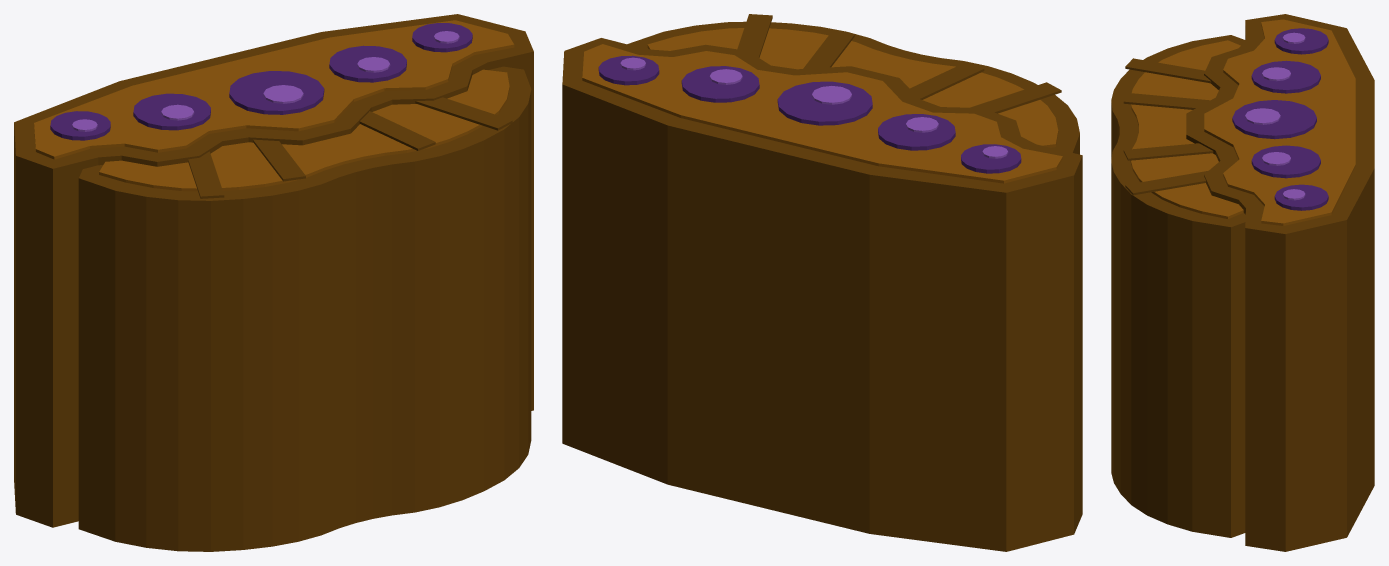
The model's file is bag_carapaca_dourada.fbx.
3 views of the same model, side by side, from view 1: azimuth 30°, elevation 25°; view 2: azimuth 150°, elevation 25°; view 3: azimuth 270°, elevation 25° (orthographic). The views are drawn at different scales.
Parts seen in each view (by area): view 1: bag_carapaca_dourada_mochila; view 2: bag_carapaca_dourada_mochila; view 3: bag_carapaca_dourada_mochila.
Boxes of the visible parts, x1,y1,x2,y2 form: bag_carapaca_dourada_mochila: (14,14,533,551); bag_carapaca_dourada_mochila: (562,14,1082,551); bag_carapaca_dourada_mochila: (1111,14,1374,551).
Bounding box in the file's own units: 2.7 × 1.87 × 1.37.
1 material, 1 textured.
